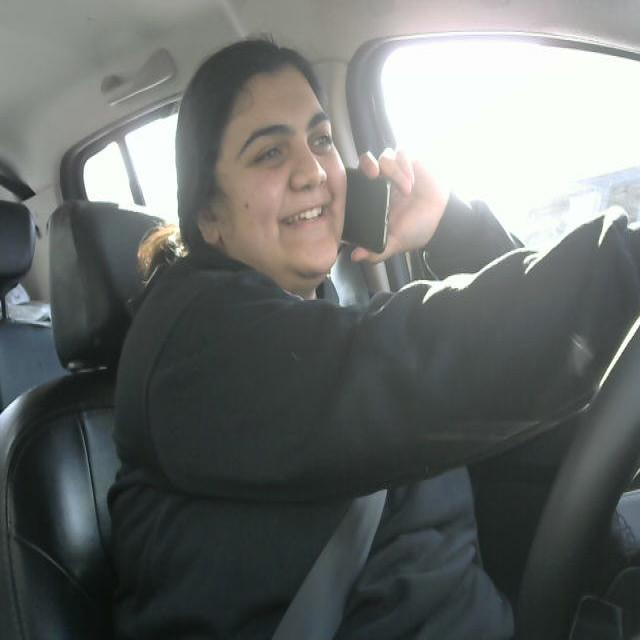mobile use: (343, 167, 403, 259)
